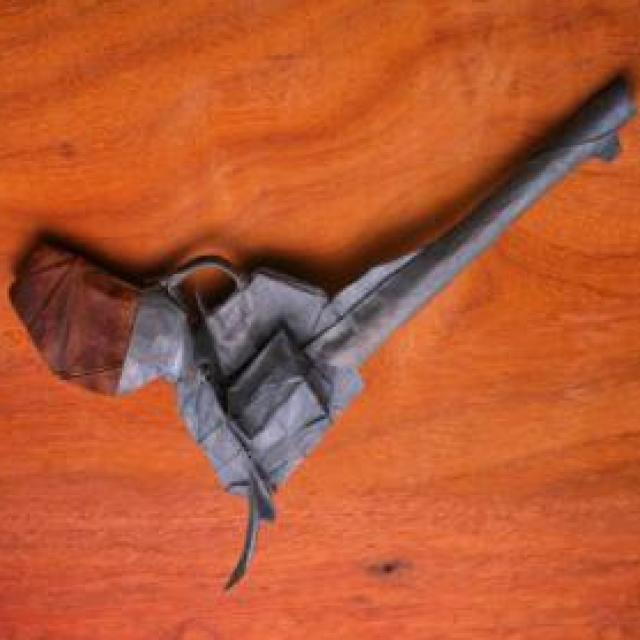pistol: (7, 70, 640, 596)
